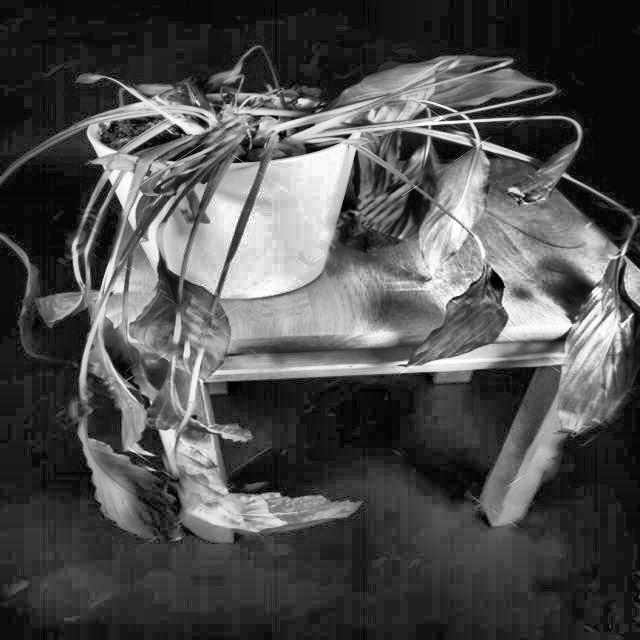plants: (0, 50, 639, 550)
